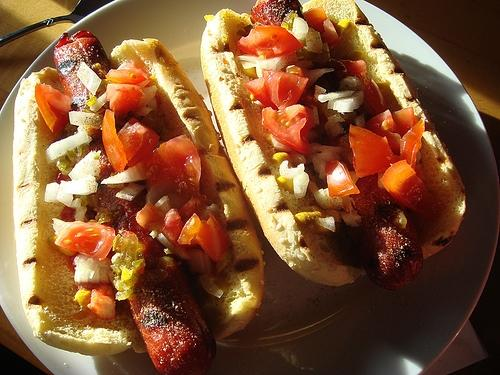onion: (45, 125, 92, 164), (101, 161, 148, 184), (256, 55, 298, 78), (76, 62, 102, 95), (68, 150, 96, 180), (60, 174, 98, 196), (327, 90, 364, 112), (314, 85, 356, 103), (68, 112, 104, 130), (116, 183, 146, 201), (312, 153, 328, 185), (292, 172, 310, 198), (279, 160, 304, 178), (314, 188, 334, 210), (78, 258, 98, 280), (291, 16, 309, 40), (306, 27, 322, 53), (157, 232, 175, 252), (338, 76, 361, 91), (154, 196, 172, 214), (316, 216, 336, 232), (45, 182, 60, 202), (52, 218, 66, 234), (304, 166, 316, 184), (238, 60, 256, 70), (236, 56, 258, 64), (65, 178, 72, 182)
tomato: (140, 134, 213, 206), (379, 159, 446, 223), (261, 104, 320, 155), (349, 124, 396, 178), (365, 106, 417, 154), (236, 25, 304, 60), (55, 223, 116, 260), (116, 118, 160, 166), (261, 68, 309, 111), (34, 83, 72, 134), (101, 109, 128, 173), (196, 212, 229, 262), (399, 118, 424, 172), (324, 161, 360, 198), (243, 77, 279, 110), (109, 86, 145, 118), (107, 60, 154, 84), (87, 284, 116, 320), (158, 208, 185, 245), (136, 203, 165, 234), (178, 213, 204, 245), (178, 197, 208, 224), (364, 78, 386, 114), (302, 6, 326, 36), (338, 60, 370, 82)
